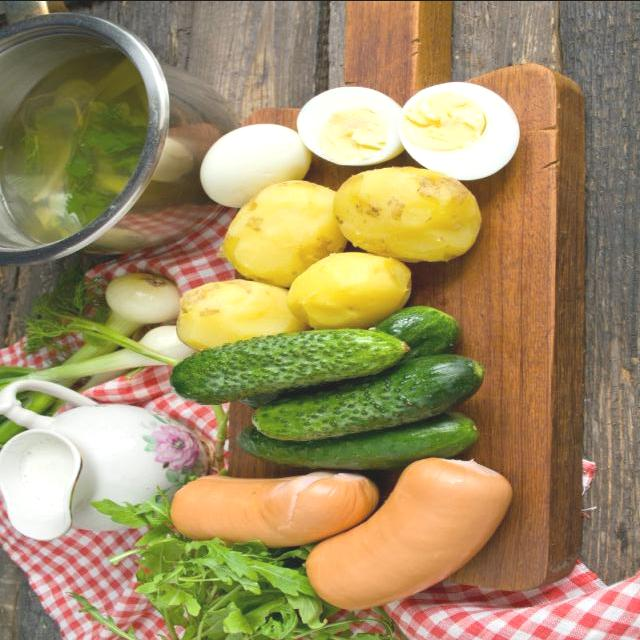cucumber: (184, 326, 400, 400), (263, 361, 471, 433), (236, 421, 467, 457)
egg: (402, 81, 510, 168), (290, 88, 392, 164), (202, 129, 302, 196)
potato: (330, 182, 488, 246), (223, 192, 333, 276), (287, 262, 417, 319), (174, 287, 296, 347)
